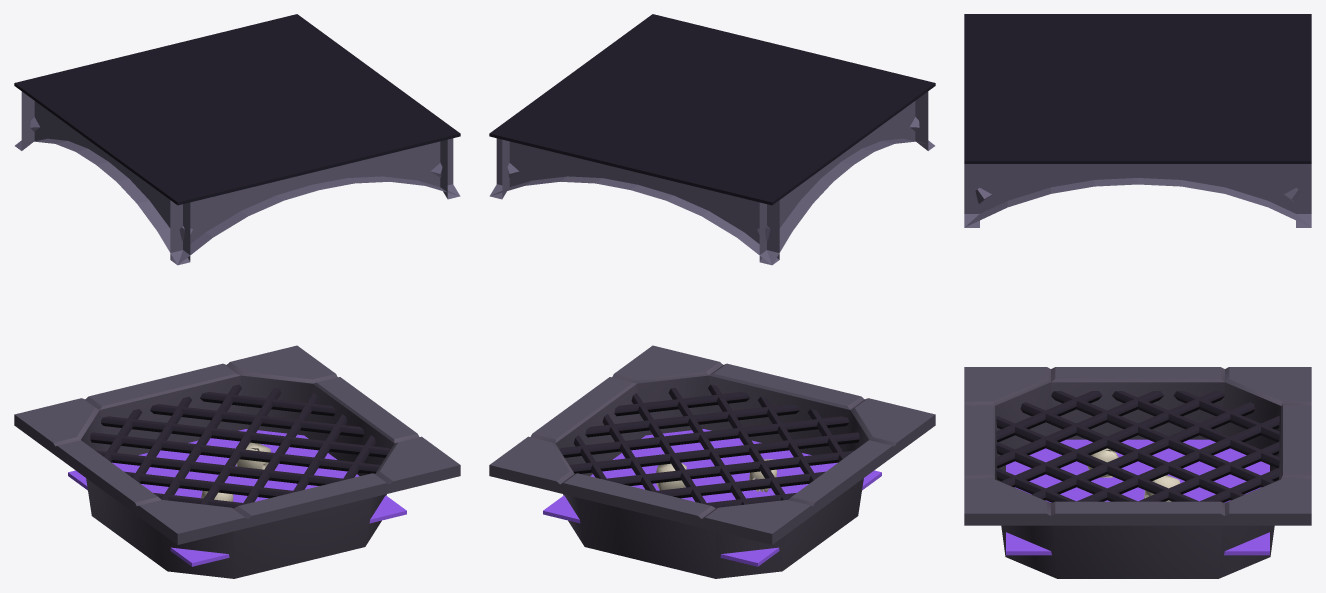
File: floor_c.fbx
3 views of the same model, side by side, from view 1: azimuth 30°, elevation 25°; view 2: azimuth 150°, elevation 25°; view 3: azimuth 270°, elevation 25° (orthographic). The views are drawn at different scales.
Visible parts, largest first — view 1: floor_c, Ceiling; view 2: floor_c, Ceiling; view 3: floor_c, Ceiling.
Part boxes in pixels (box(x1,y1,x2,y2)): floor_c: box(14, 345, 460, 578); Ceiling: box(14, 14, 460, 265); floor_c: box(489, 345, 935, 578); Ceiling: box(489, 14, 935, 265); floor_c: box(964, 367, 1311, 578); Ceiling: box(964, 14, 1311, 227).
Size of the model in its own units: 4 by 5.53 by 4.
